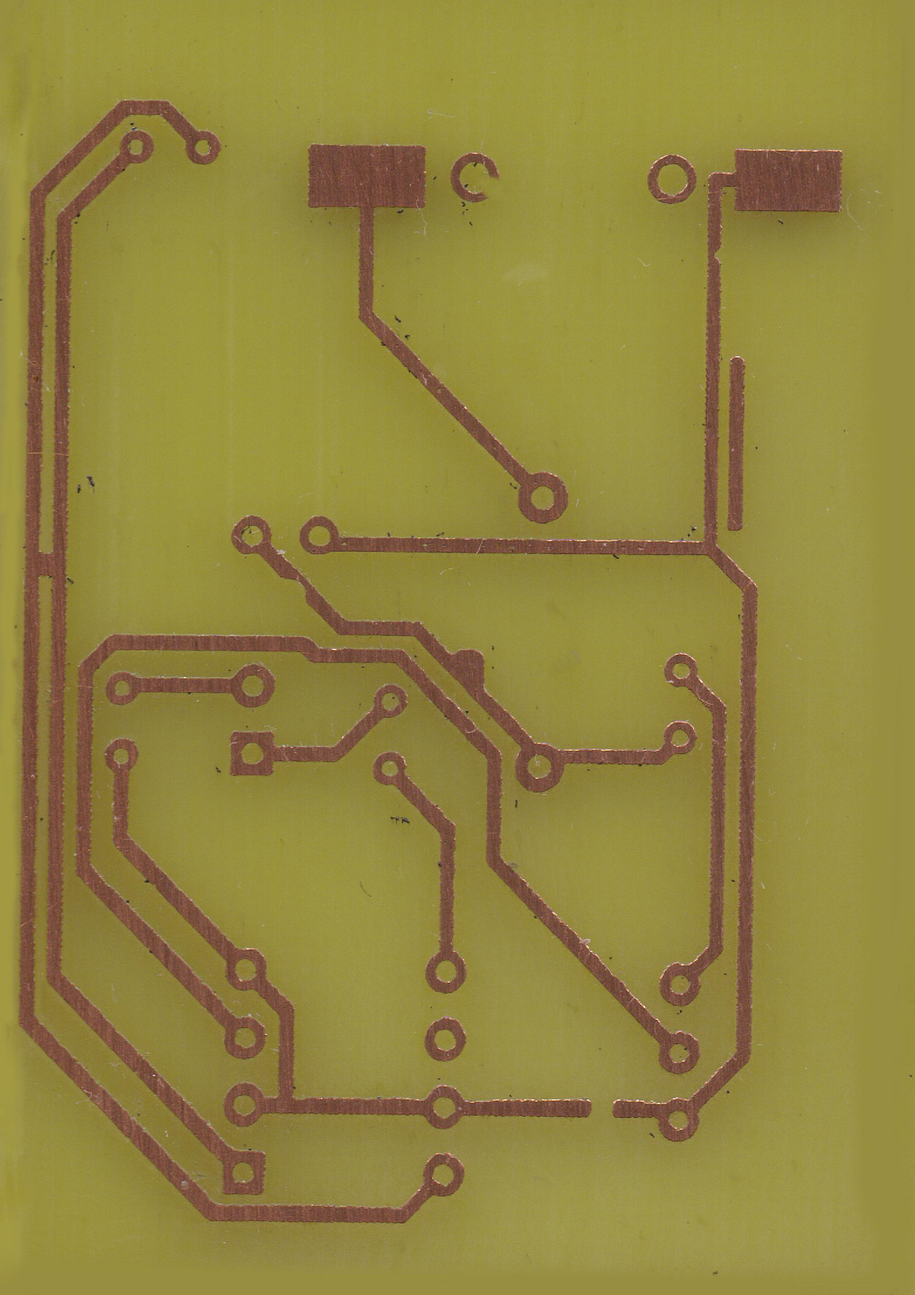missing_hole: (445, 148, 504, 207)
mouse_bite: (278, 574, 319, 603), (709, 242, 723, 271)
open_circuit: (580, 1091, 626, 1122)
short: (21, 547, 68, 583)
spur: (442, 642, 500, 699)
spurious_copper: (719, 355, 753, 538)
